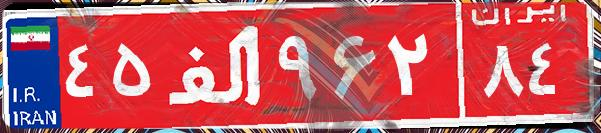2: (385, 28, 445, 110)
4: (57, 26, 110, 107), (525, 38, 570, 115)
5: (110, 28, 158, 105)
6: (330, 28, 385, 110)
8: (475, 38, 525, 113)
9: (273, 28, 330, 110)
الف: (158, 15, 273, 115)
